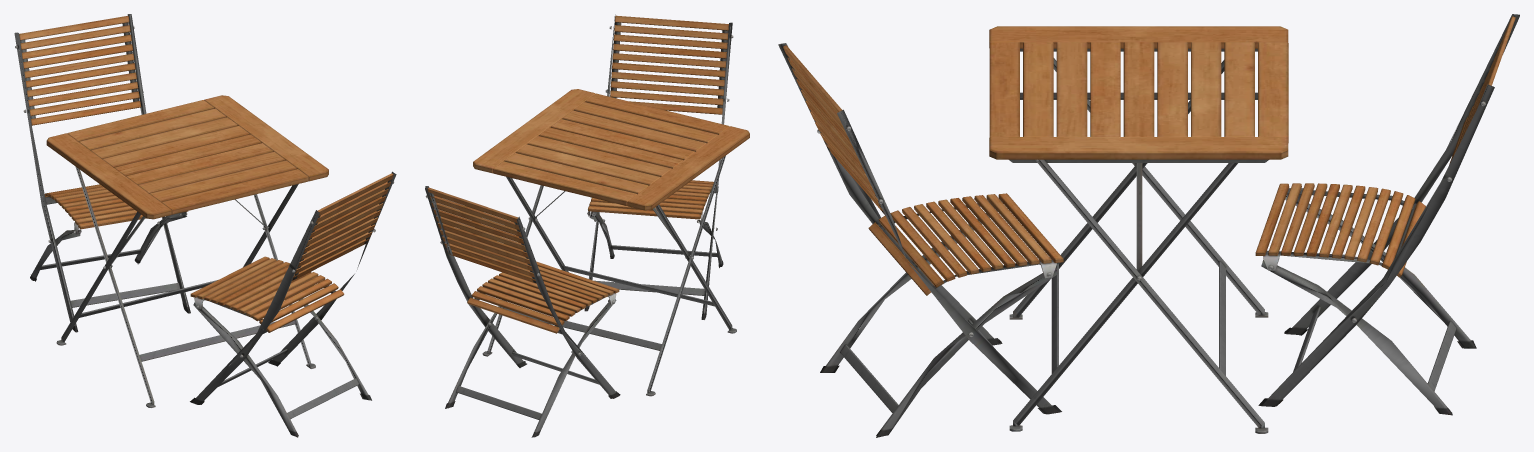
File: prop_cafe_bistro_set_aaa-c55d3be288fb.glb
3 renders of one model, left to right at view 1: azimuth 30°, elevation 25°; view 2: azimuth 150°, elevation 25°; view 3: azimuth 270°, elevation 25°, orthographic. The views are drawn at different scales.
Parts seen in each view (by area): view 1: outdoor_table_chair_set_01_chair_01, outdoor_table_chair_set_01_table; view 2: outdoor_table_chair_set_01_chair_01, outdoor_table_chair_set_01_table; view 3: outdoor_table_chair_set_01_table, outdoor_table_chair_set_01_chair_01.
Part boxes in pixels (x1=…): outdoor_table_chair_set_01_chair_01: x1=14, y1=14, x2=396, y2=437; outdoor_table_chair_set_01_table: x1=46, y1=95, x2=328, y2=407; outdoor_table_chair_set_01_chair_01: x1=425, y1=14, x2=733, y2=437; outdoor_table_chair_set_01_table: x1=473, y1=89, x2=749, y2=396; outdoor_table_chair_set_01_table: x1=989, y1=26, x2=1288, y2=433; outdoor_table_chair_set_01_chair_01: x1=778, y1=14, x2=1519, y2=437.
Size of the model in its own units: 0.7404 by 0.8554 by 1.72.
Materials: 2 (2 with a texture image).
